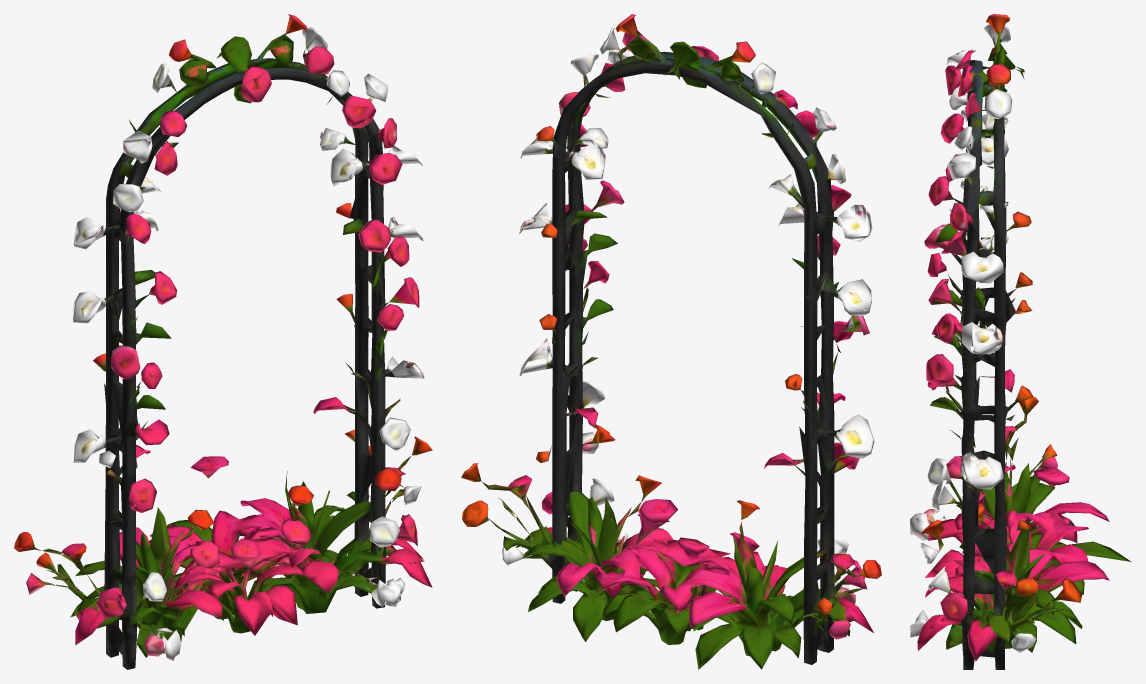
The model's file is flower_arch.glb.
The picture shows the model from 3 angles, left to right: view 1: azimuth 30°, elevation 25°; view 2: azimuth 150°, elevation 25°; view 3: azimuth 270°, elevation 25°; orthographic projection. The views are drawn at different scales.
Bounding box in the file's own units: 1.39 × 1.91 × 0.6726.
Materials: 1 (1 with a texture image).
